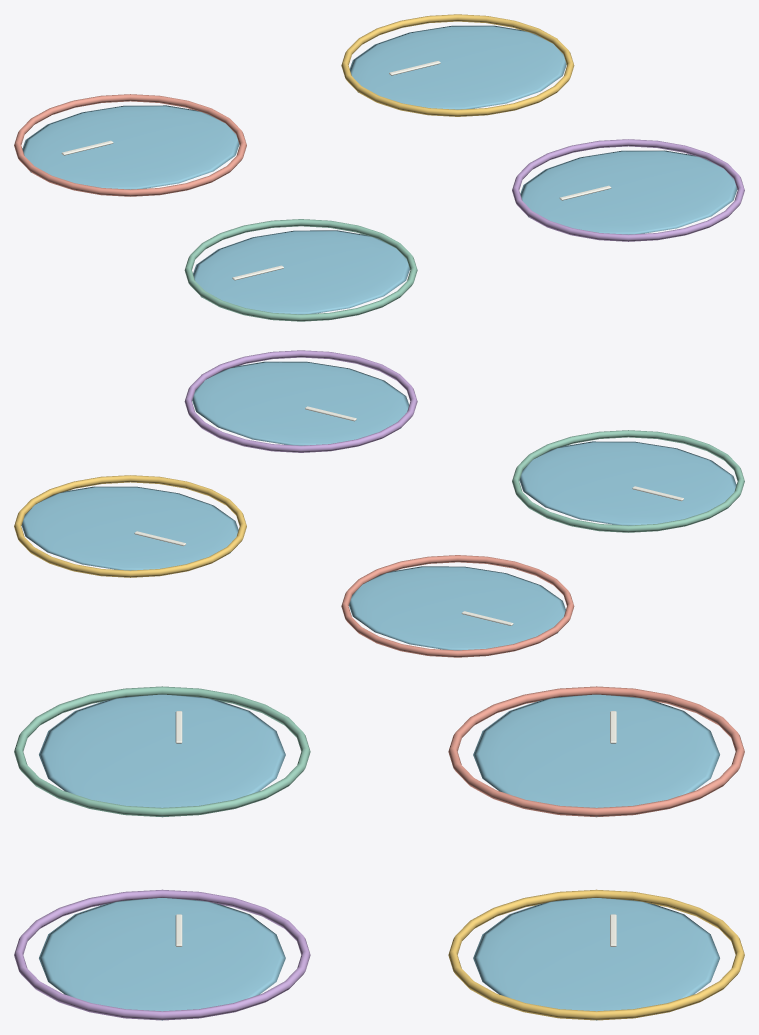
The model's file is play-puddles.glb.
3 views of the same model, one above another, from view 1: azimuth 30°, elevation 25°; view 2: azimuth 150°, elevation 25°; view 3: azimuth 270°, elevation 25° (orthographic). The views are drawn at different scales.
Parts seen in each view (by area): view 1: Puddle1 surfaces, Puddle2 surfaces, Puddle3 surfaces, Puddle0 surfaces; view 2: Puddle3 surfaces, Puddle0 surfaces, Puddle1 surfaces, Puddle2 surfaces; view 3: Puddle0 surfaces, Puddle2 surfaces, Puddle1 surfaces, Puddle3 surfaces.
Boxes of the visible parts, x1,y1,x2,y2 form: Puddle1 surfaces: [341, 14, 574, 116]; Puddle2 surfaces: [184, 219, 417, 321]; Puddle3 surfaces: [512, 139, 744, 241]; Puddle0 surfaces: [14, 94, 246, 196]; Puddle3 surfaces: [184, 350, 417, 452]; Puddle0 surfaces: [341, 555, 574, 657]; Puddle1 surfaces: [14, 475, 246, 577]; Puddle2 surfaces: [512, 430, 744, 532]; Puddle0 surfaces: [448, 686, 744, 817]; Puddle2 surfaces: [14, 686, 310, 817]; Puddle1 surfaces: [448, 889, 744, 1020]; Puddle3 surfaces: [14, 889, 310, 1020].
Bounding box in the file's own units: 2.33 × 0.0346 × 2.19.
